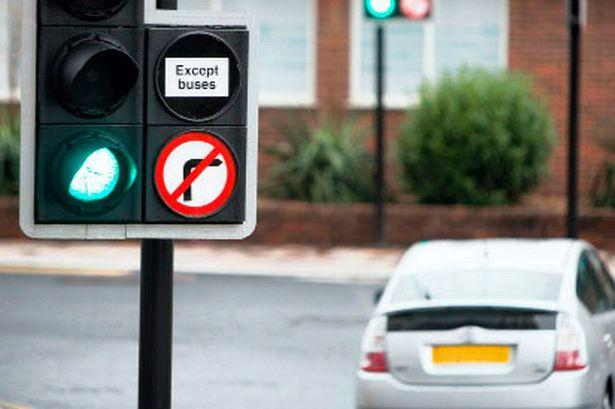no_right_turn: (152, 131, 236, 217)
